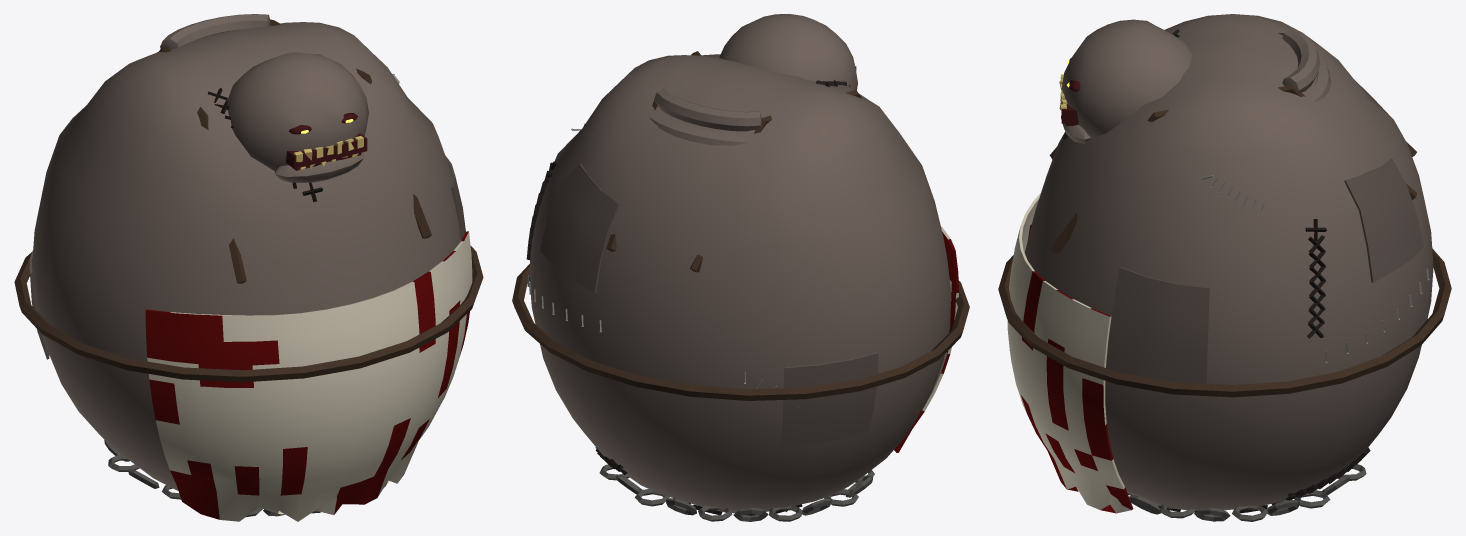
File: butcher_body.glb
3 renders of one model, left to right at view 1: azimuth 30°, elevation 25°; view 2: azimuth 150°, elevation 25°; view 3: azimuth 270°, elevation 25°, orthographic. The views are drawn at different scales.
Visible parts, largest first — view 1: butcher_body, apron, jaw; view 2: butcher_body, apron; view 3: butcher_body, apron.
Boxes of the visible parts, x1,y1,x2,y2 form: butcher_body: (29, 14, 465, 516); apron: (14, 19, 483, 521); jaw: (275, 152, 363, 182); butcher_body: (526, 14, 951, 521); apron: (512, 51, 969, 452); butcher_body: (1024, 14, 1433, 521); apron: (998, 33, 1451, 513).
Bounding box in the file's own units: 1.02 × 1.08 × 0.9491.
